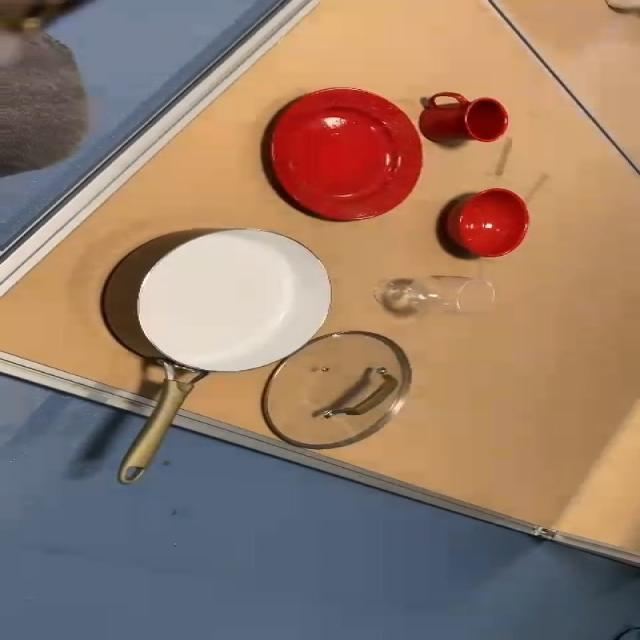Bowl: (442, 186, 535, 263)
Glass: (365, 273, 505, 318)
Plate: (272, 87, 422, 227)
cup: (418, 90, 515, 145)
pot: (105, 222, 333, 486)
